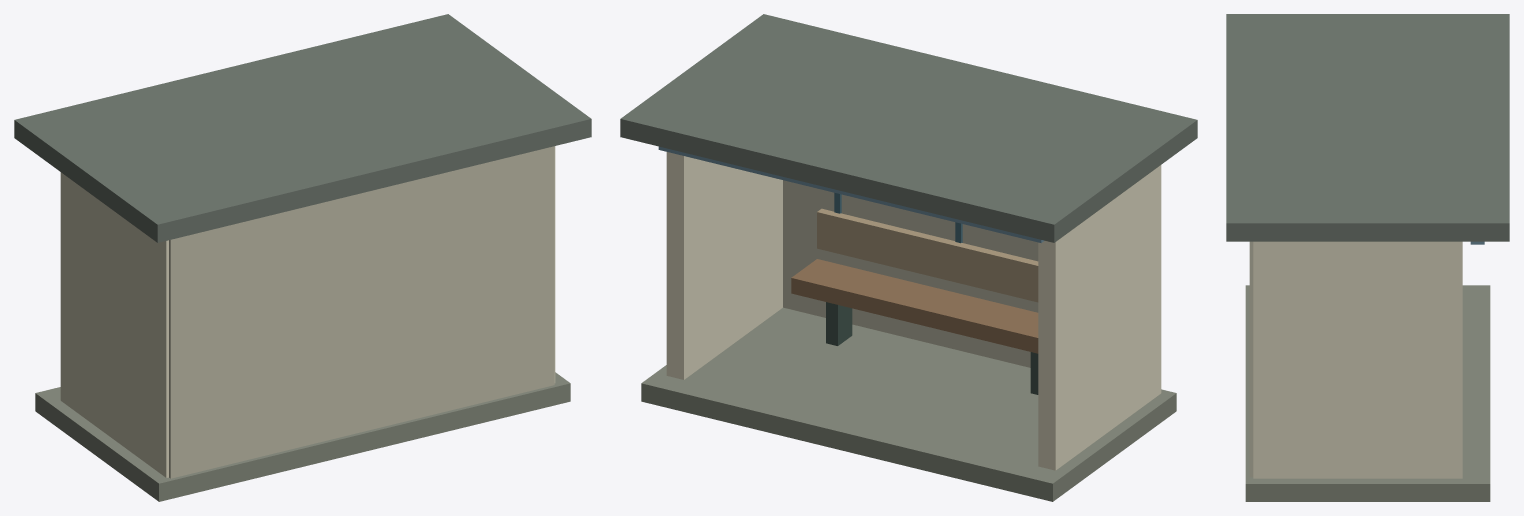
File: ua_bus_shelter.obj
3 renders of one model, left to right at view 1: azimuth 30°, elevation 25°; view 2: azimuth 150°, elevation 25°; view 3: azimuth 270°, elevation 25°, orthographic.
Visible parts, largest first — view 1: ua_bus_shelter; view 2: ua_bus_shelter; view 3: ua_bus_shelter.
Boxes of the visible parts, box(x1,y1,x2,y2) form: ua_bus_shelter: box(14, 14, 591, 501); ua_bus_shelter: box(620, 14, 1197, 501); ua_bus_shelter: box(1226, 14, 1509, 501).
Size of the model in its own units: 3.48 by 2.2 by 1.99.
